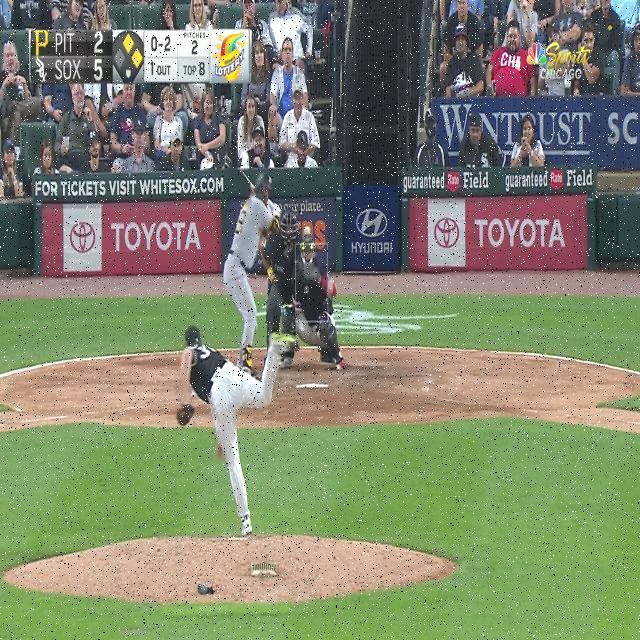baseball: (304, 226, 310, 236)
